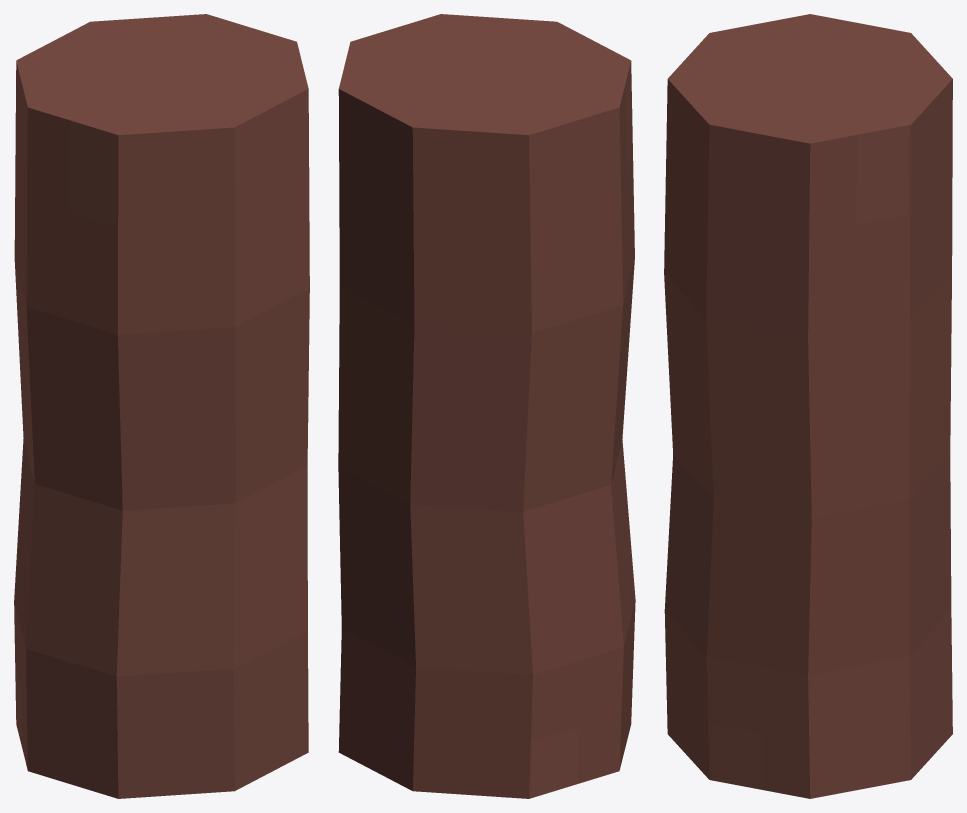
The model's file is steam.obj.
The picture shows the model from 3 angles, left to right: view 1: azimuth 30°, elevation 25°; view 2: azimuth 150°, elevation 25°; view 3: azimuth 270°, elevation 25°; orthographic projection.
Parts seen in each view (by area): view 1: enclosed_steam_cloud; view 2: enclosed_steam_cloud; view 3: enclosed_steam_cloud.
Part boxes in pixels (<box>): enclosed_steam_cloud: <box>14,14,309,798</box>; enclosed_steam_cloud: <box>338,14,635,798</box>; enclosed_steam_cloud: <box>664,14,952,798</box>.
Size of the model in its own units: 0.2656 by 0.6188 by 0.2472.
